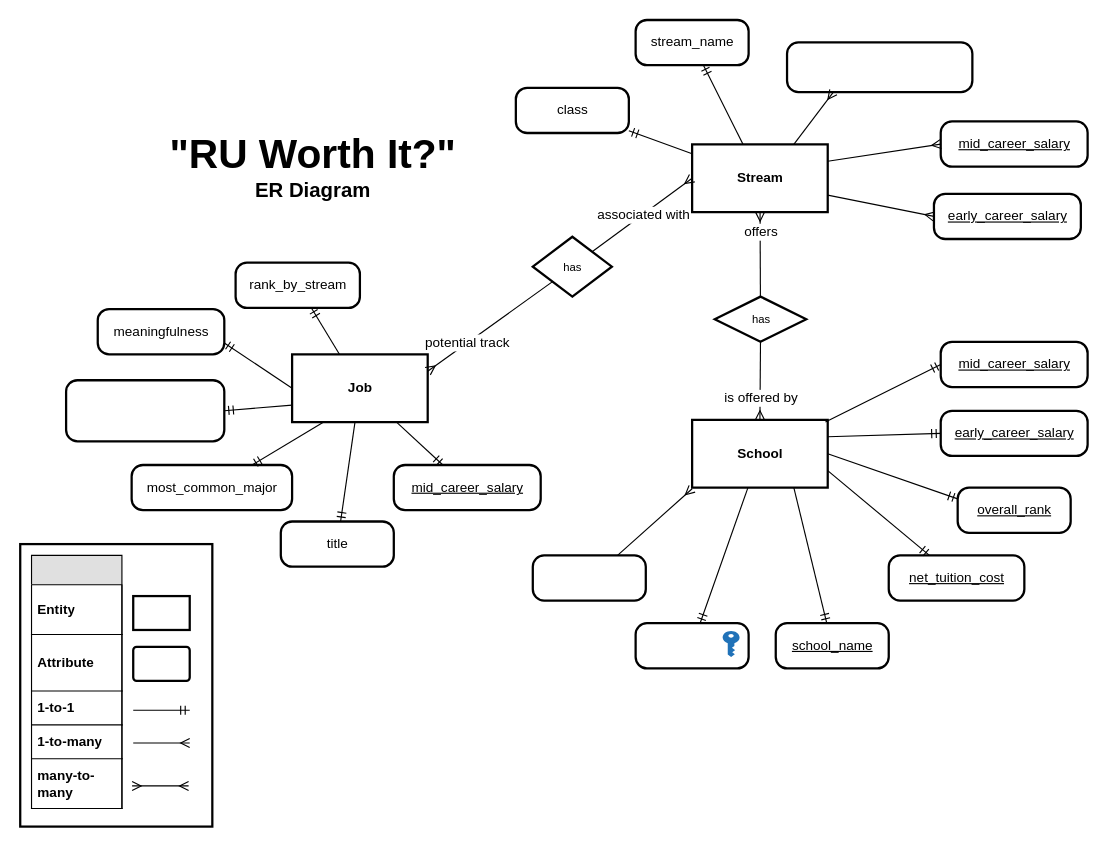
This 1109x848 diagram has some shape labels left out. Each missing label, with the box of its shape:
colleges_rank_by_stream: (785, 41, 973, 93)
ipeds_id: (634, 621, 749, 669)
Legend: (30, 554, 122, 809)
num_people_majored: (64, 379, 225, 442)
state: (531, 554, 646, 601)
